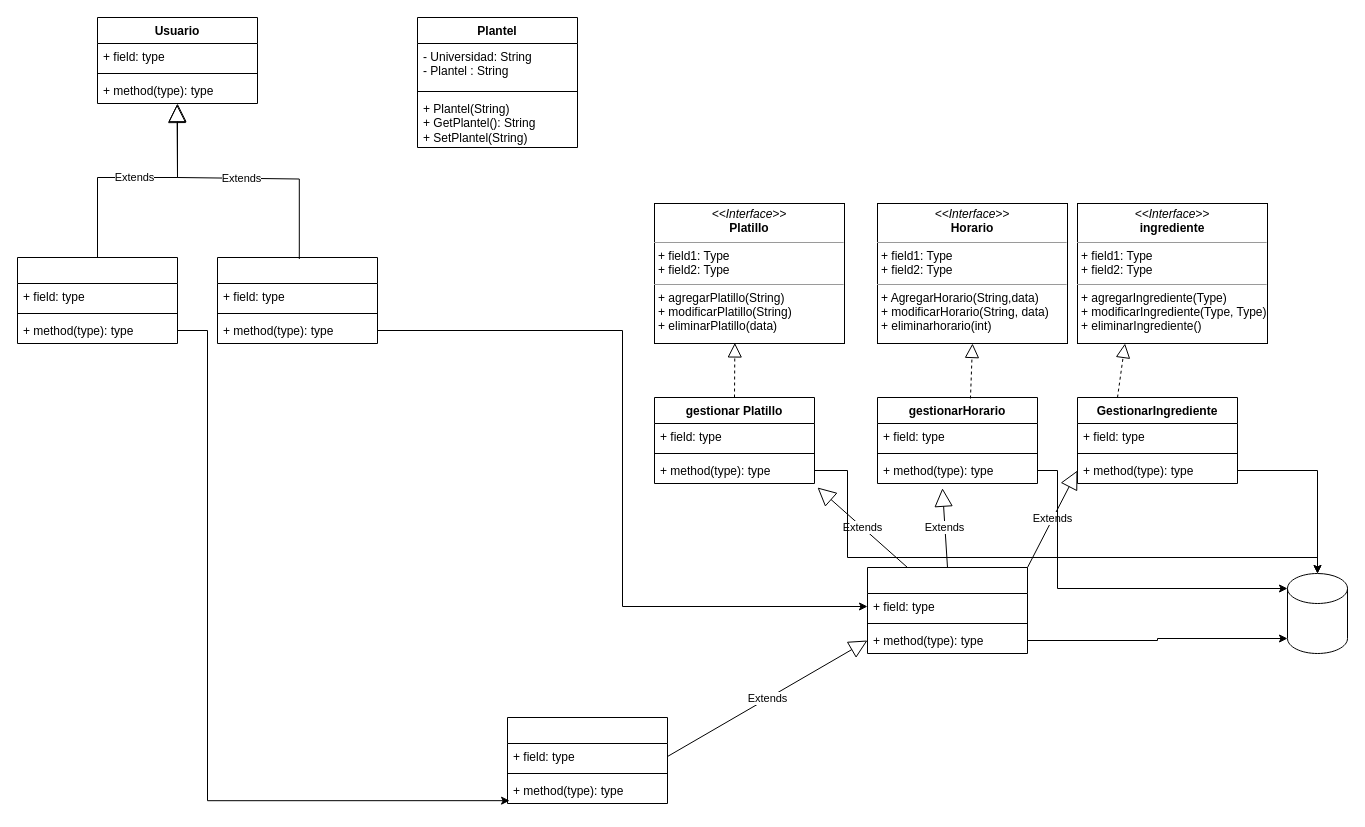
Image size: 1365x827. Some labels were removed from this diagram. The shapes that lost their labels are listed below. From the top down, each one's box as (x1, y1, x2, y2) in pixels, then its label:
(16, 256, 178, 344): Comensal
(216, 256, 378, 344): Responsable
(866, 566, 1028, 654): GestionMenu
(506, 716, 668, 804): verMenu
